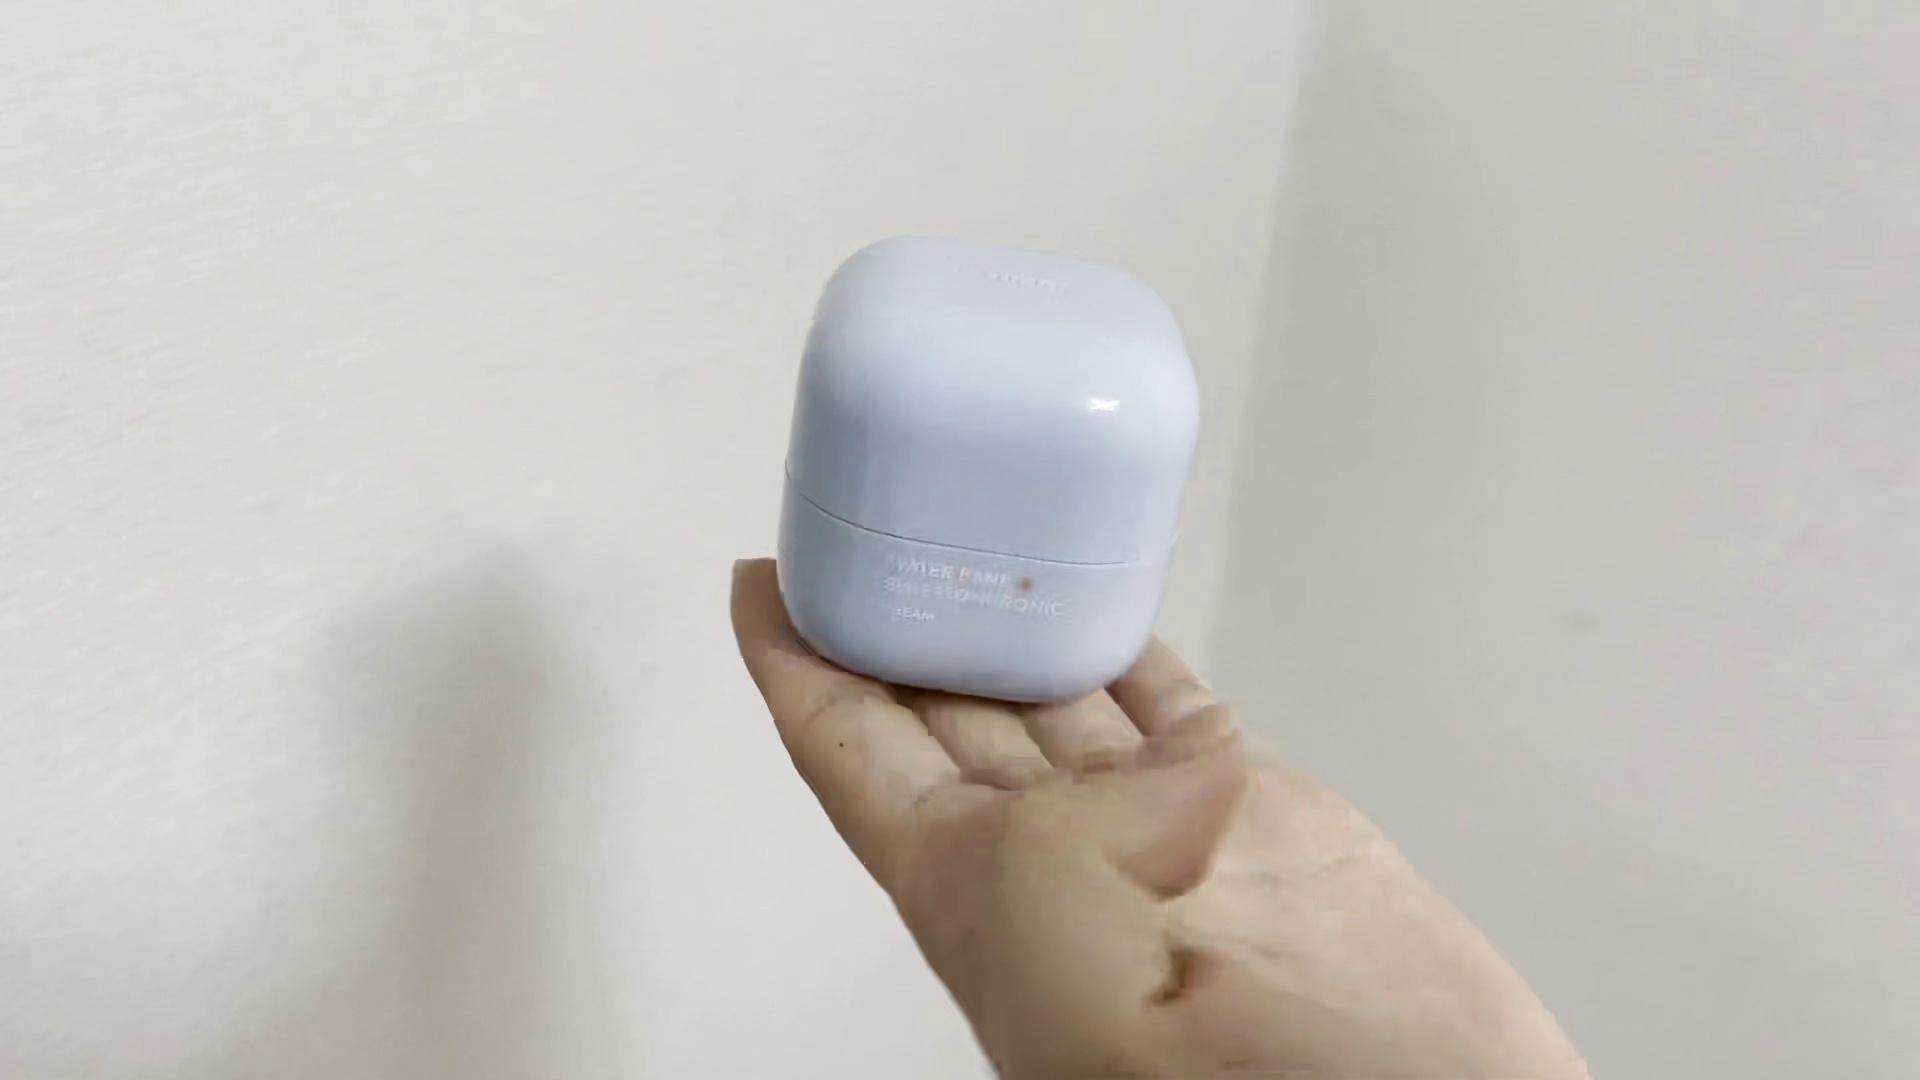cream: (782, 233, 1200, 700)
